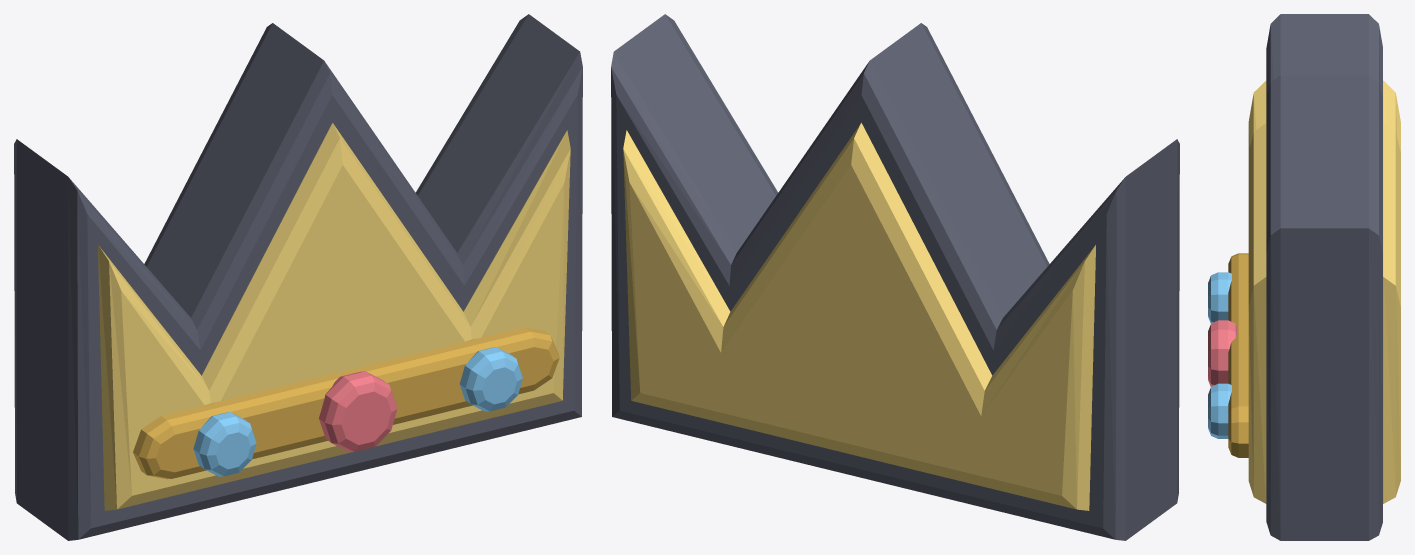
Rendered from game-ui-icon-library-gold-crown-c9fe939f__18980.glb.
The picture shows the model from 3 angles, left to right: view 1: azimuth 30°, elevation 25°; view 2: azimuth 150°, elevation 25°; view 3: azimuth 270°, elevation 25°; orthographic projection. The views are drawn at different scales.
Parts seen in each view (by area): view 1: gold-crown; view 2: gold-crown; view 3: gold-crown.
Boxes of the visible parts, x1,y1,x2,y2 form: gold-crown: [14, 14, 582, 540]; gold-crown: [611, 14, 1179, 540]; gold-crown: [1208, 14, 1400, 540].
Bounding box in the file's own units: 0.98 × 0.7644 × 0.3724.
